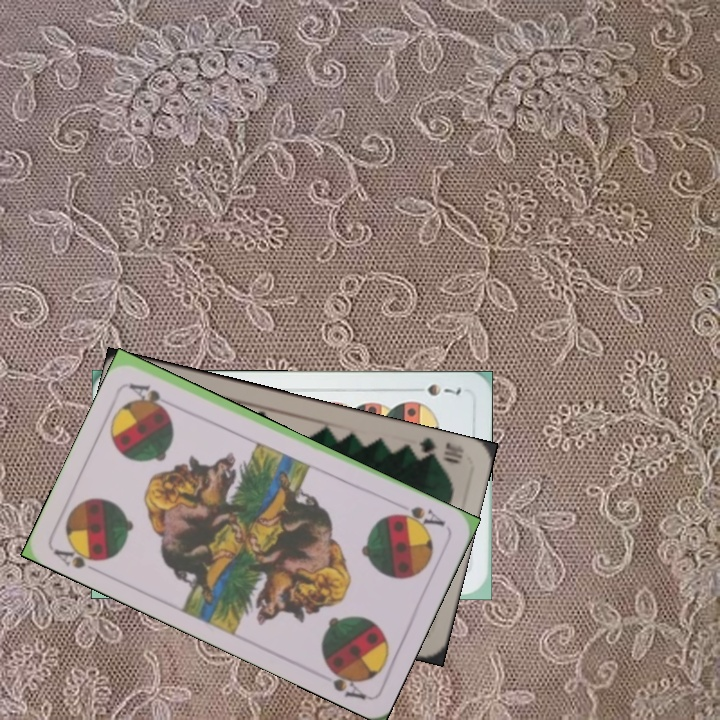G10: (407, 434, 466, 467)
S7: (423, 380, 464, 399)
SA: (49, 538, 110, 575), (389, 502, 448, 532)
